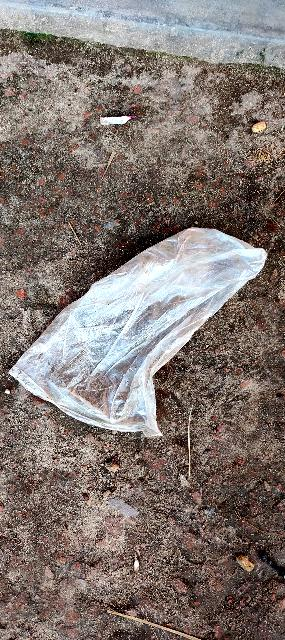polythene: (5, 226, 280, 440)
